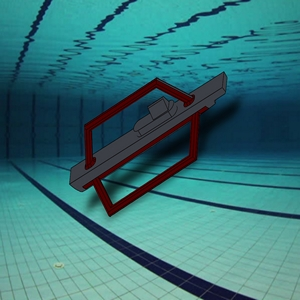submarine: (52, 65, 257, 221)
